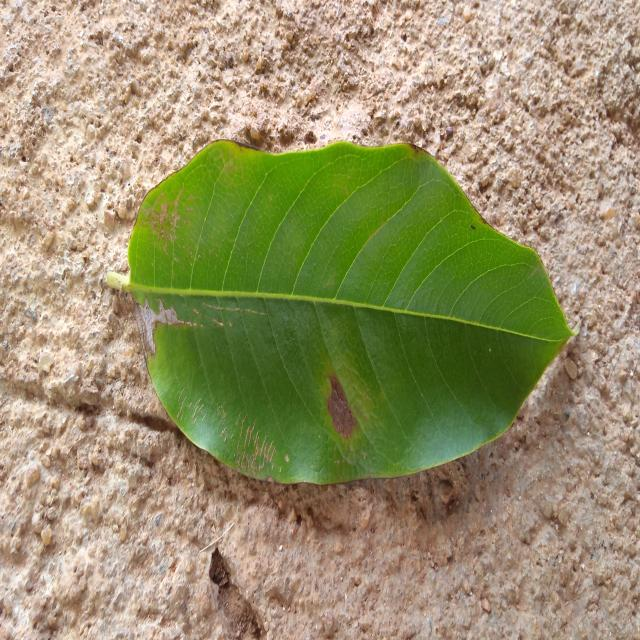leaf spot: (106, 140, 571, 482)
